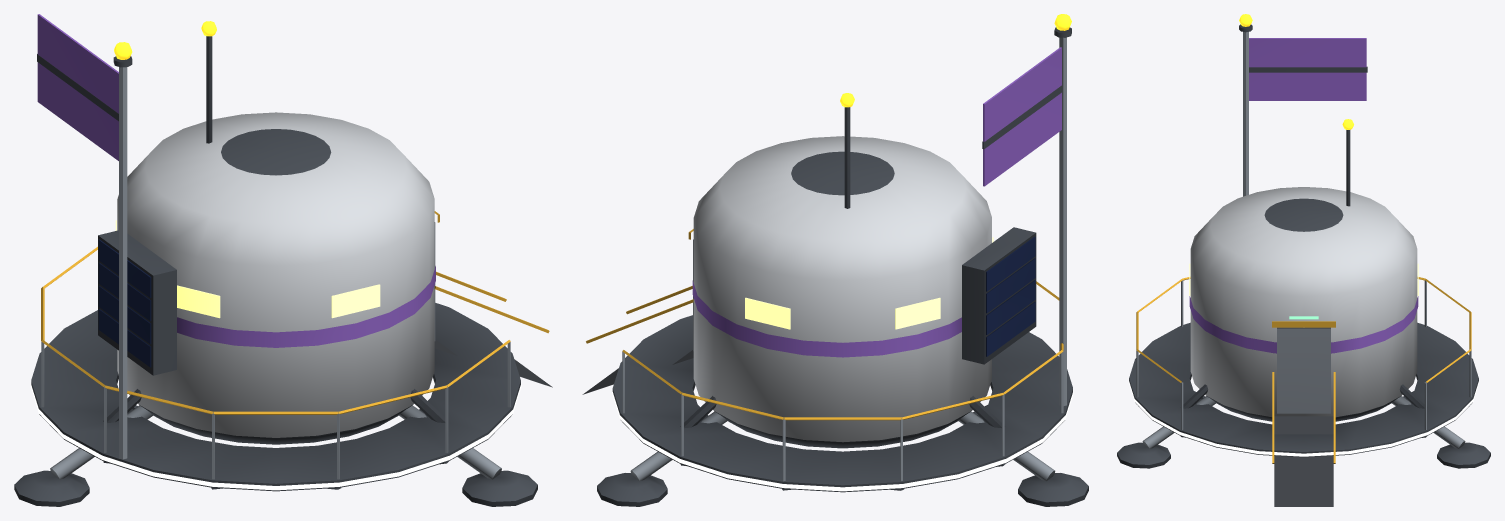
Rendered from outpost_core.glb.
3 views of the same model, side by side, from view 1: azimuth 30°, elevation 25°; view 2: azimuth 150°, elevation 25°; view 3: azimuth 270°, elevation 25° (orthographic). The views are drawn at different scales.
Parts seen in each view (by area): view 1: Base, Lights; view 2: Base, Lights; view 3: Base, Lights.
Part boxes in pixels (bbox=[...]): Base: bbox=[14, 14, 552, 506]; Lights: bbox=[30, 21, 521, 490]; Base: bbox=[582, 27, 1088, 506]; Lights: bbox=[612, 14, 1073, 491]; Base: bbox=[1117, 24, 1490, 506]; Lights: bbox=[1128, 14, 1479, 456].
Size of the model in its own units: 8.6 by 7.54 by 7.59.
